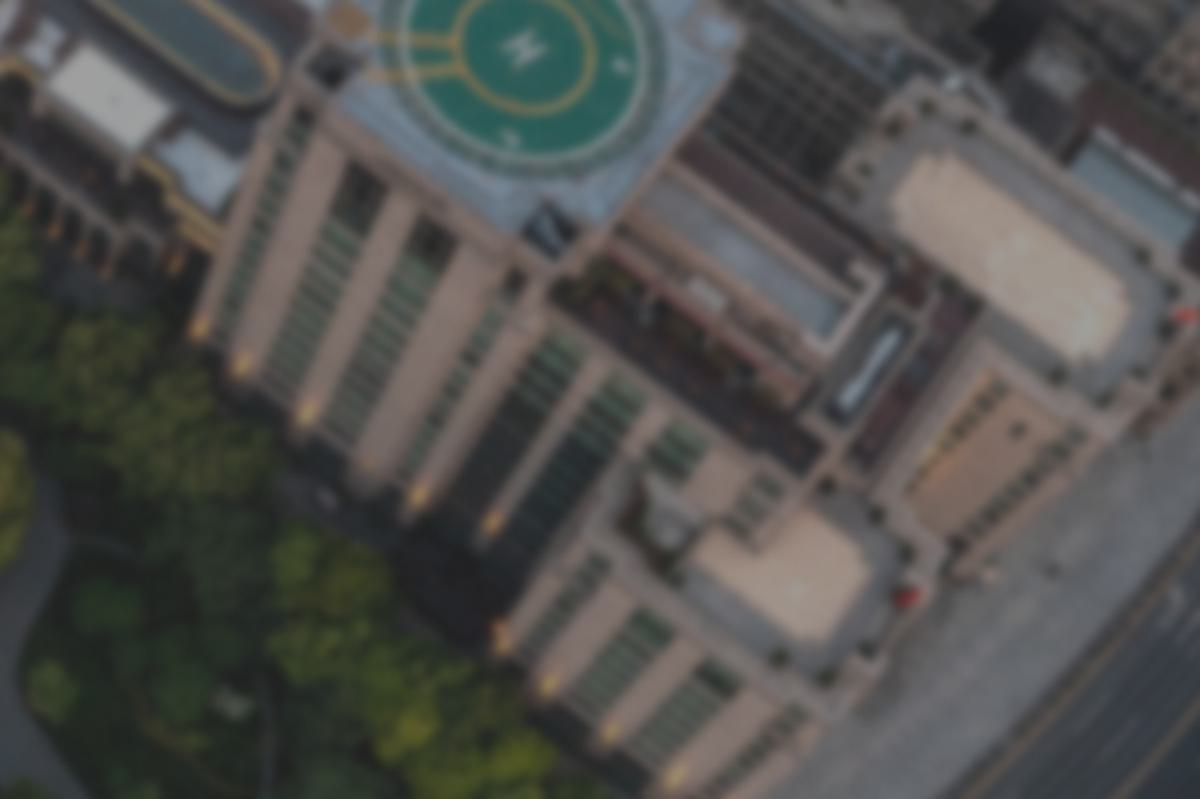Apron: (443, 1, 610, 122)
